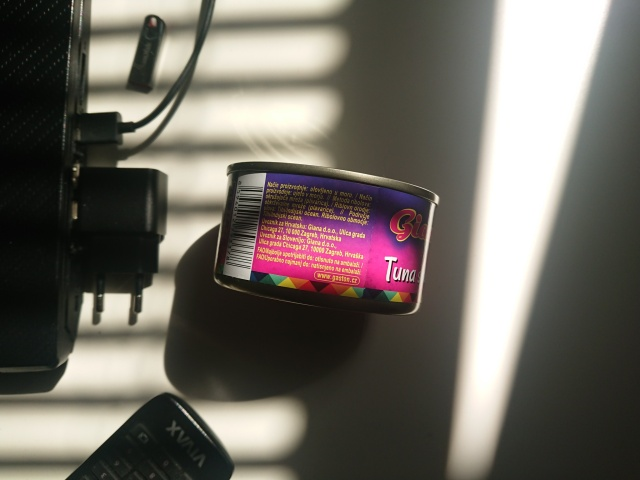Giana Tuna Salad Mexico 185g: (210, 160, 444, 320)
